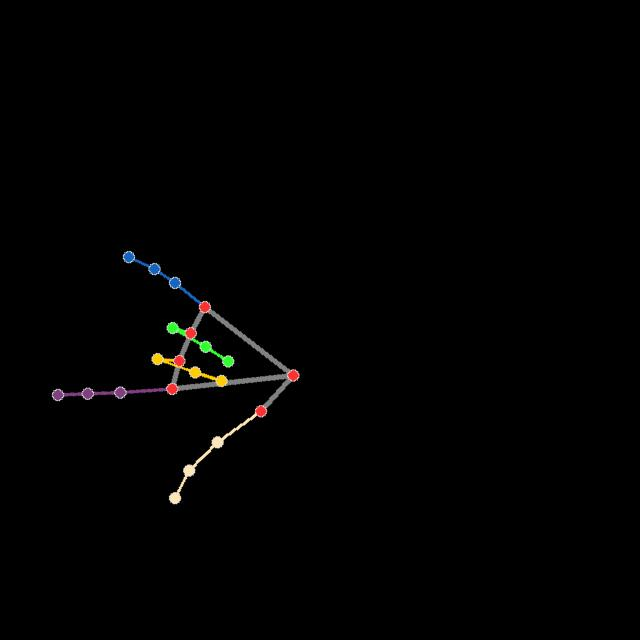spiderman: (49, 249, 304, 506)
